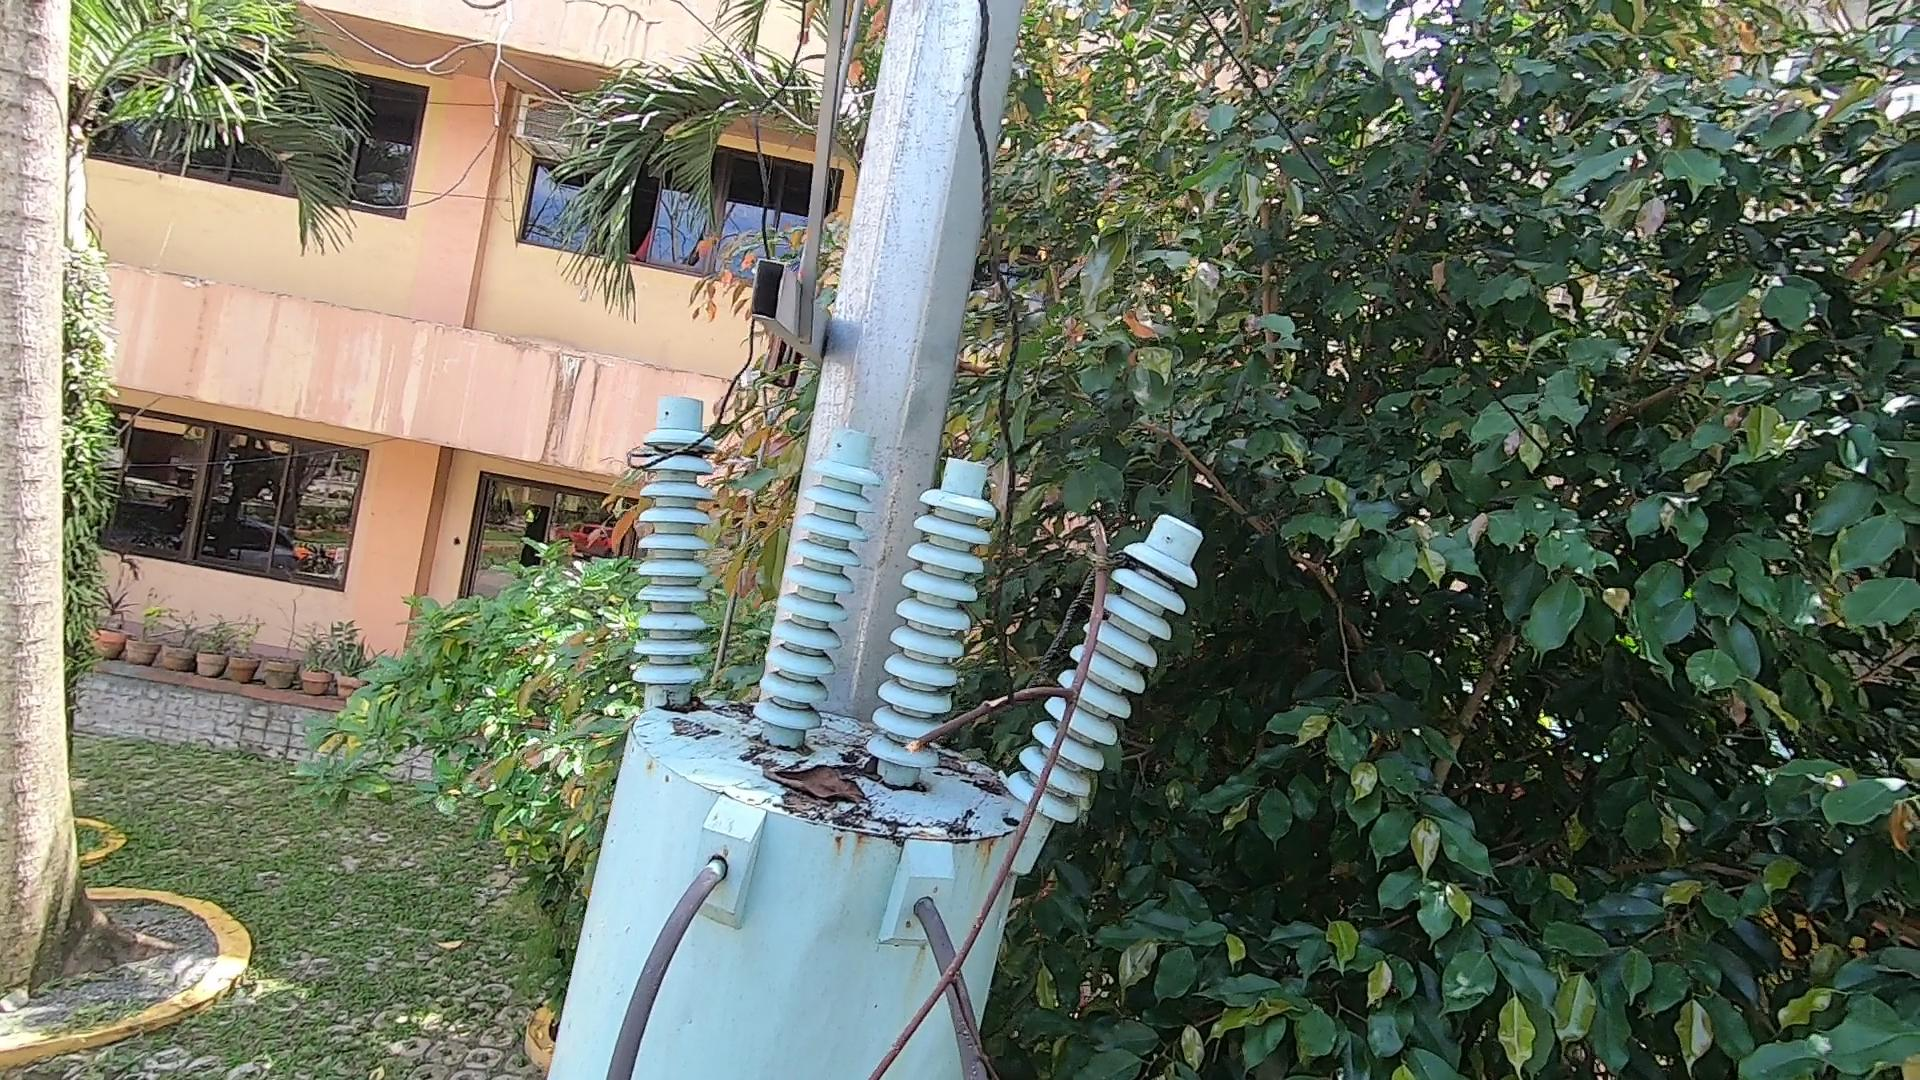leaf: (742, 760, 890, 832)
tree branch: (847, 502, 1137, 1080)
